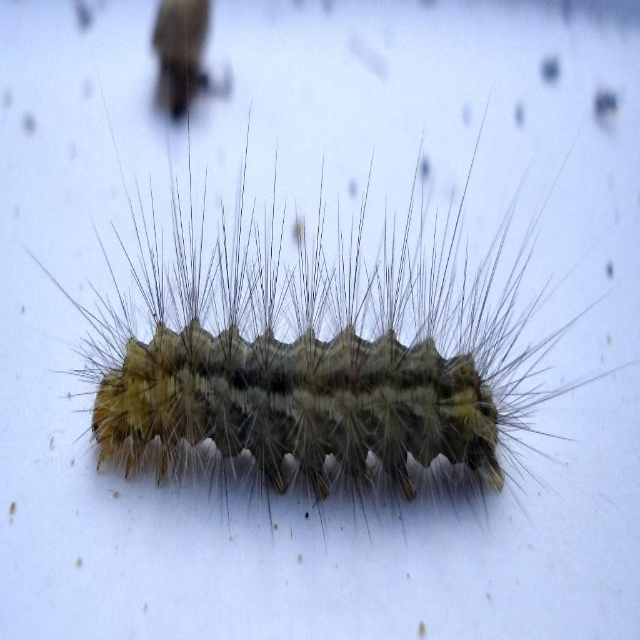Caterpillar: (15, 3, 637, 550)
